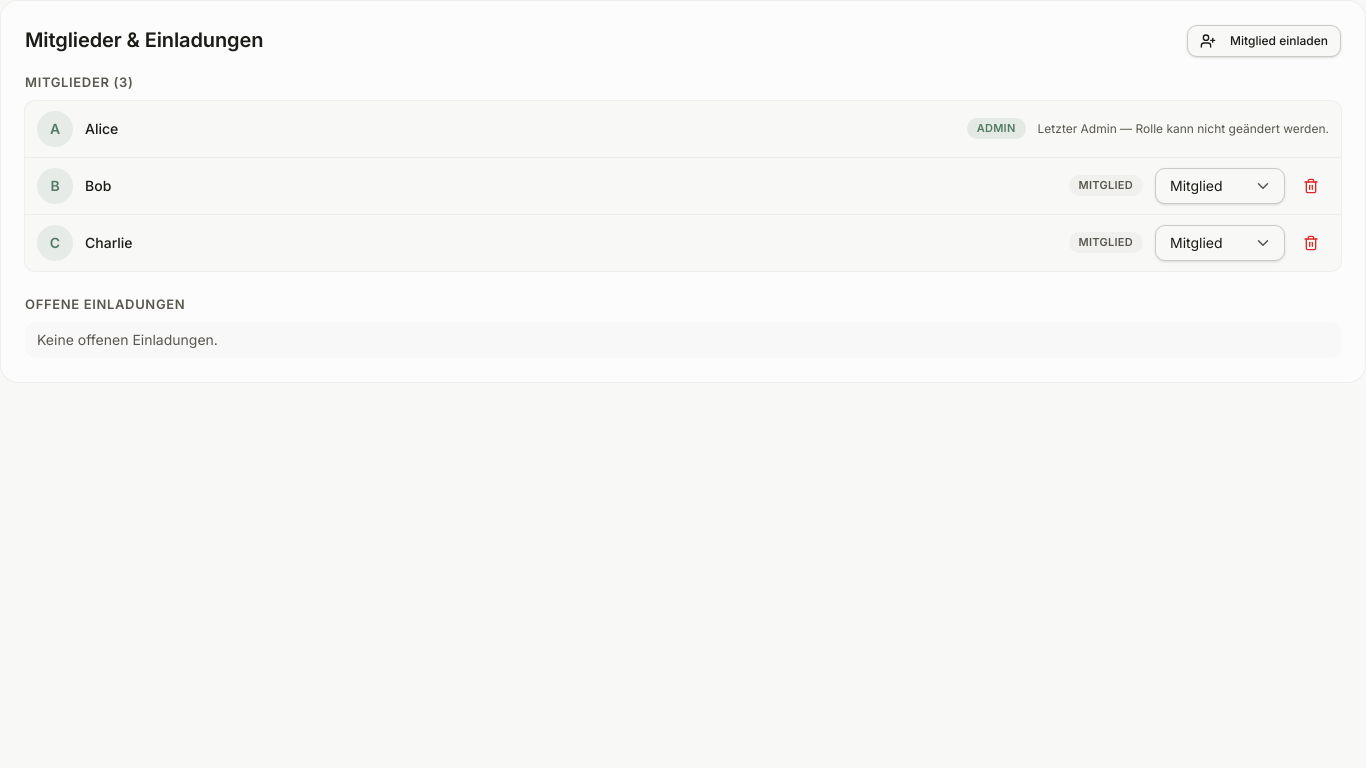
Test case: <GroupMembersAndInvitesPanel /> — invites list › admin sees an "Mitglied einladen" button that opens the invite dialog
This screenshot has width=1366, height=768.
Click the button "Mitglied einladen".
click(1264, 41)  # box left=1187, top=25, right=1341, bottom=57
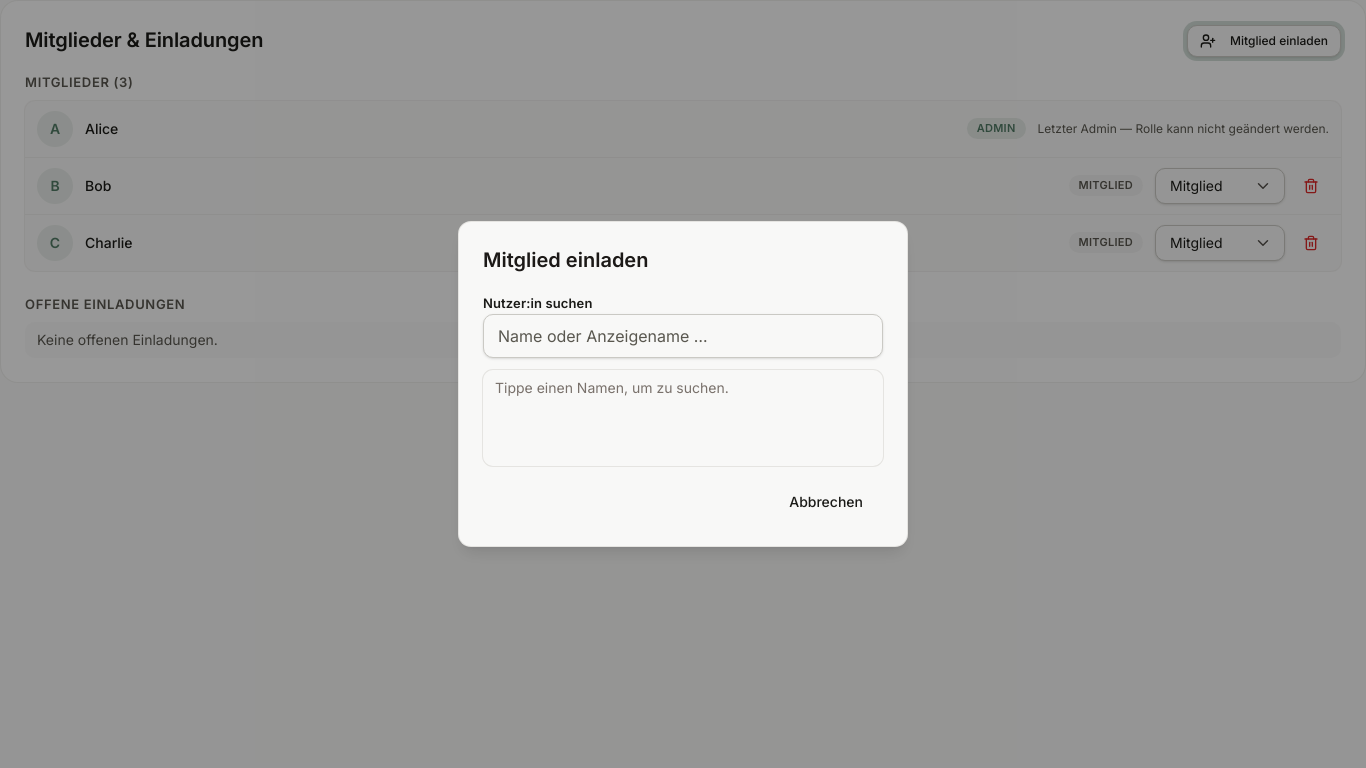
Expected: the heading "Mitglied einladen" is shown, left=483, top=248, right=648, bottom=272
